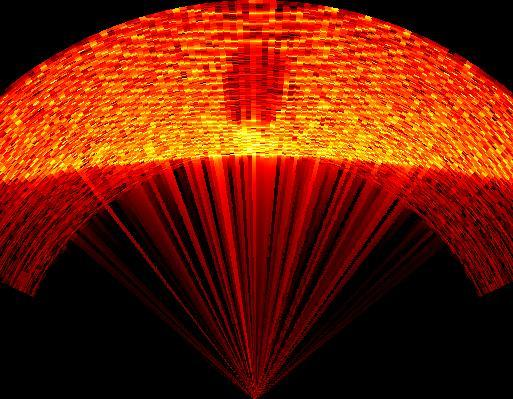box_crate: (222, 44, 294, 155)
